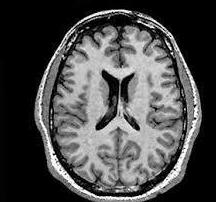Normal_Brain: (8, 1, 216, 202)
